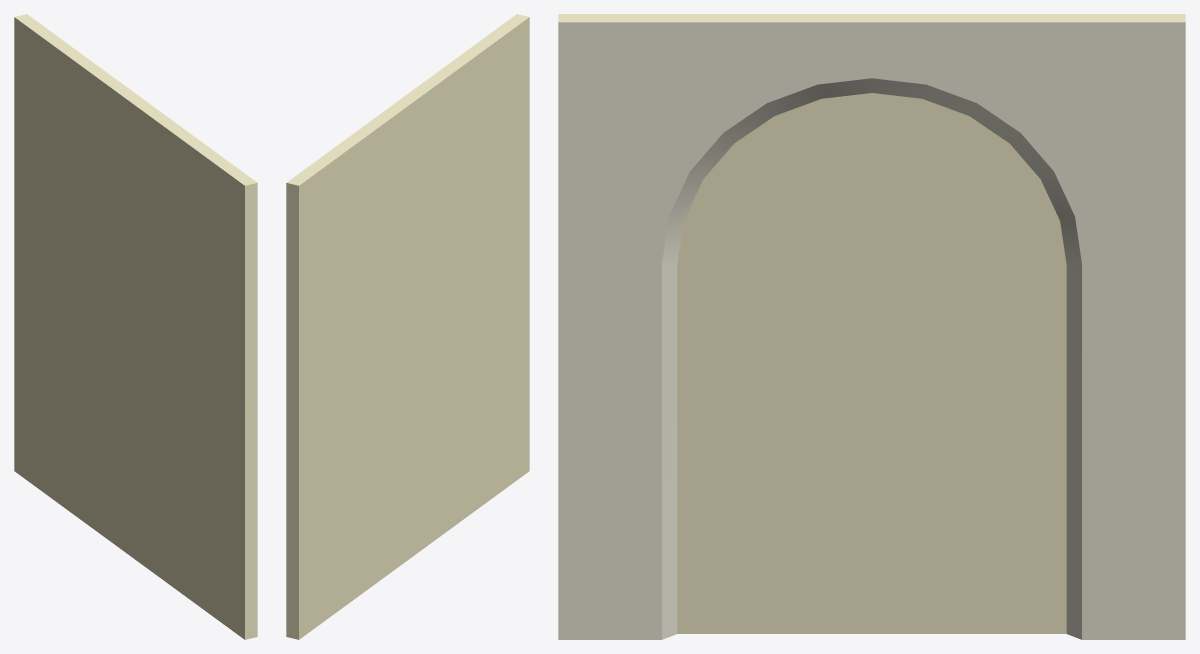
File: arch_wall.fbx
The picture shows the model from 3 angles, left to right: view 1: azimuth 30°, elevation 25°; view 2: azimuth 150°, elevation 25°; view 3: azimuth 270°, elevation 25°; orthographic projection. The views are drawn at different scales.
Parts seen in each view (by area): view 1: polySurface8; view 2: polySurface8; view 3: polySurface8.
Boxes of the visible parts, x1=… form: polySurface8: x1=14, y1=14, x2=257, y2=639; polySurface8: x1=286, y1=14, x2=529, y2=639; polySurface8: x1=558, y1=14, x2=1185, y2=639.
Bounding box in the file's own units: 0.187 × 6.44 × 5.92.
